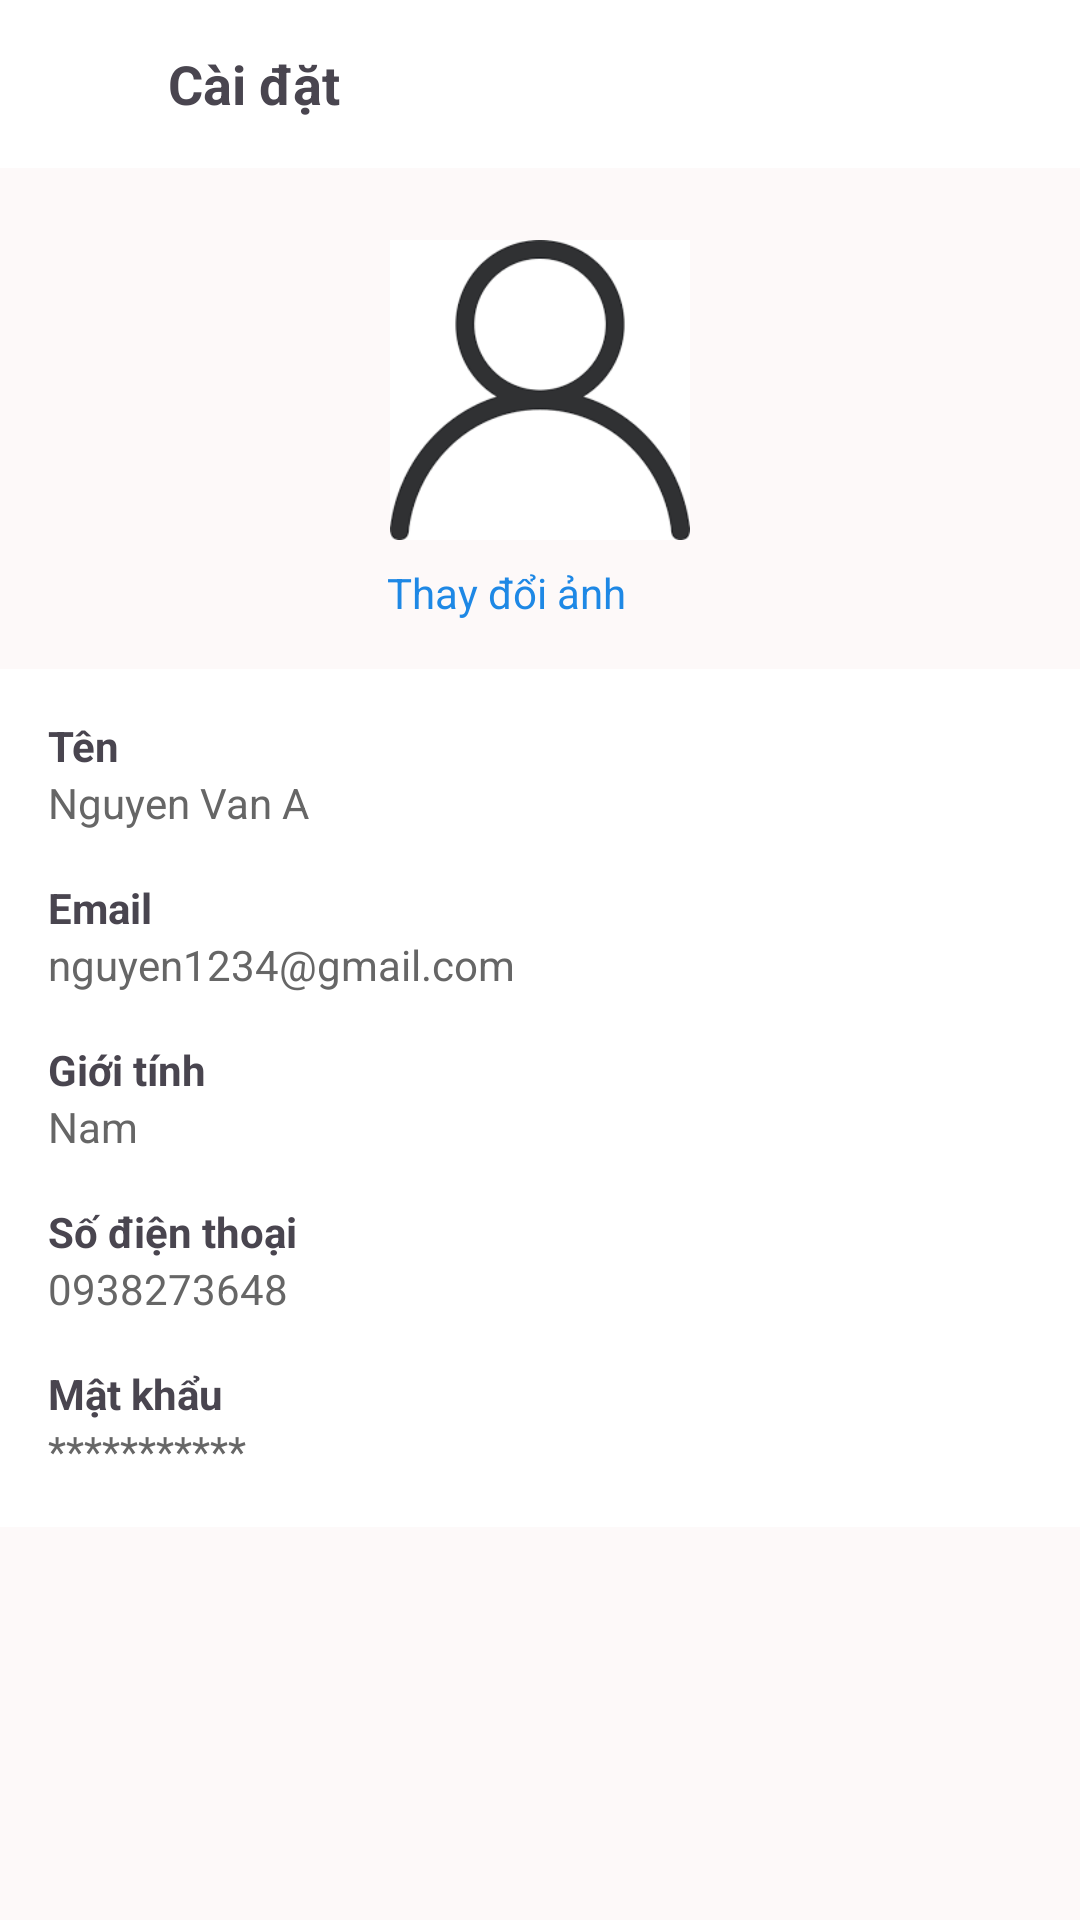

Icon click points for this 1080px x 1920px phone screenshot, format (x,y):
user: (540,390)
